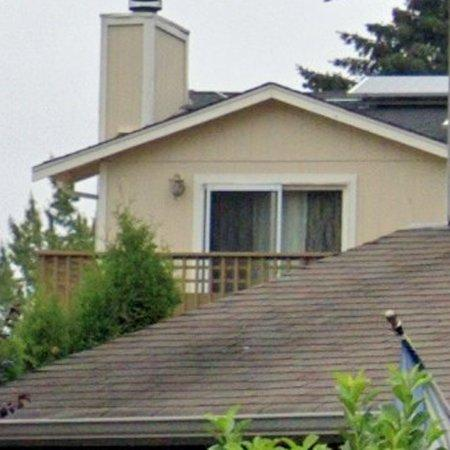chimneys: (99, 0, 189, 140)
